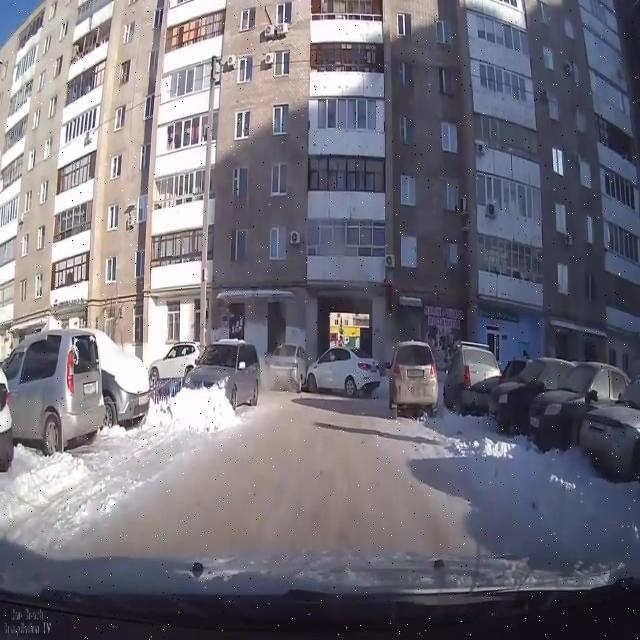moderate: (264, 337, 382, 399)
